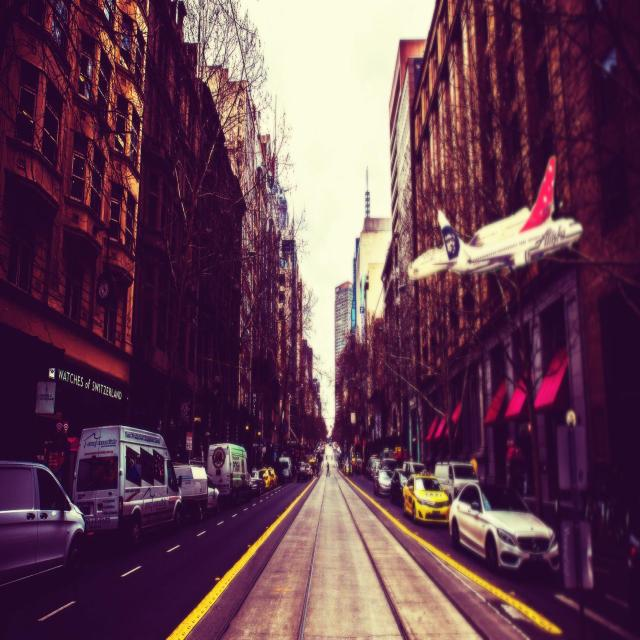airplane: (407, 154, 583, 282)
